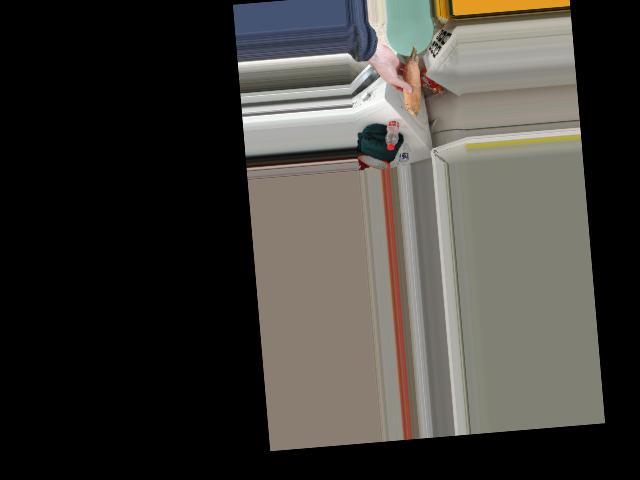sweet_potato: (396, 50, 424, 112)
